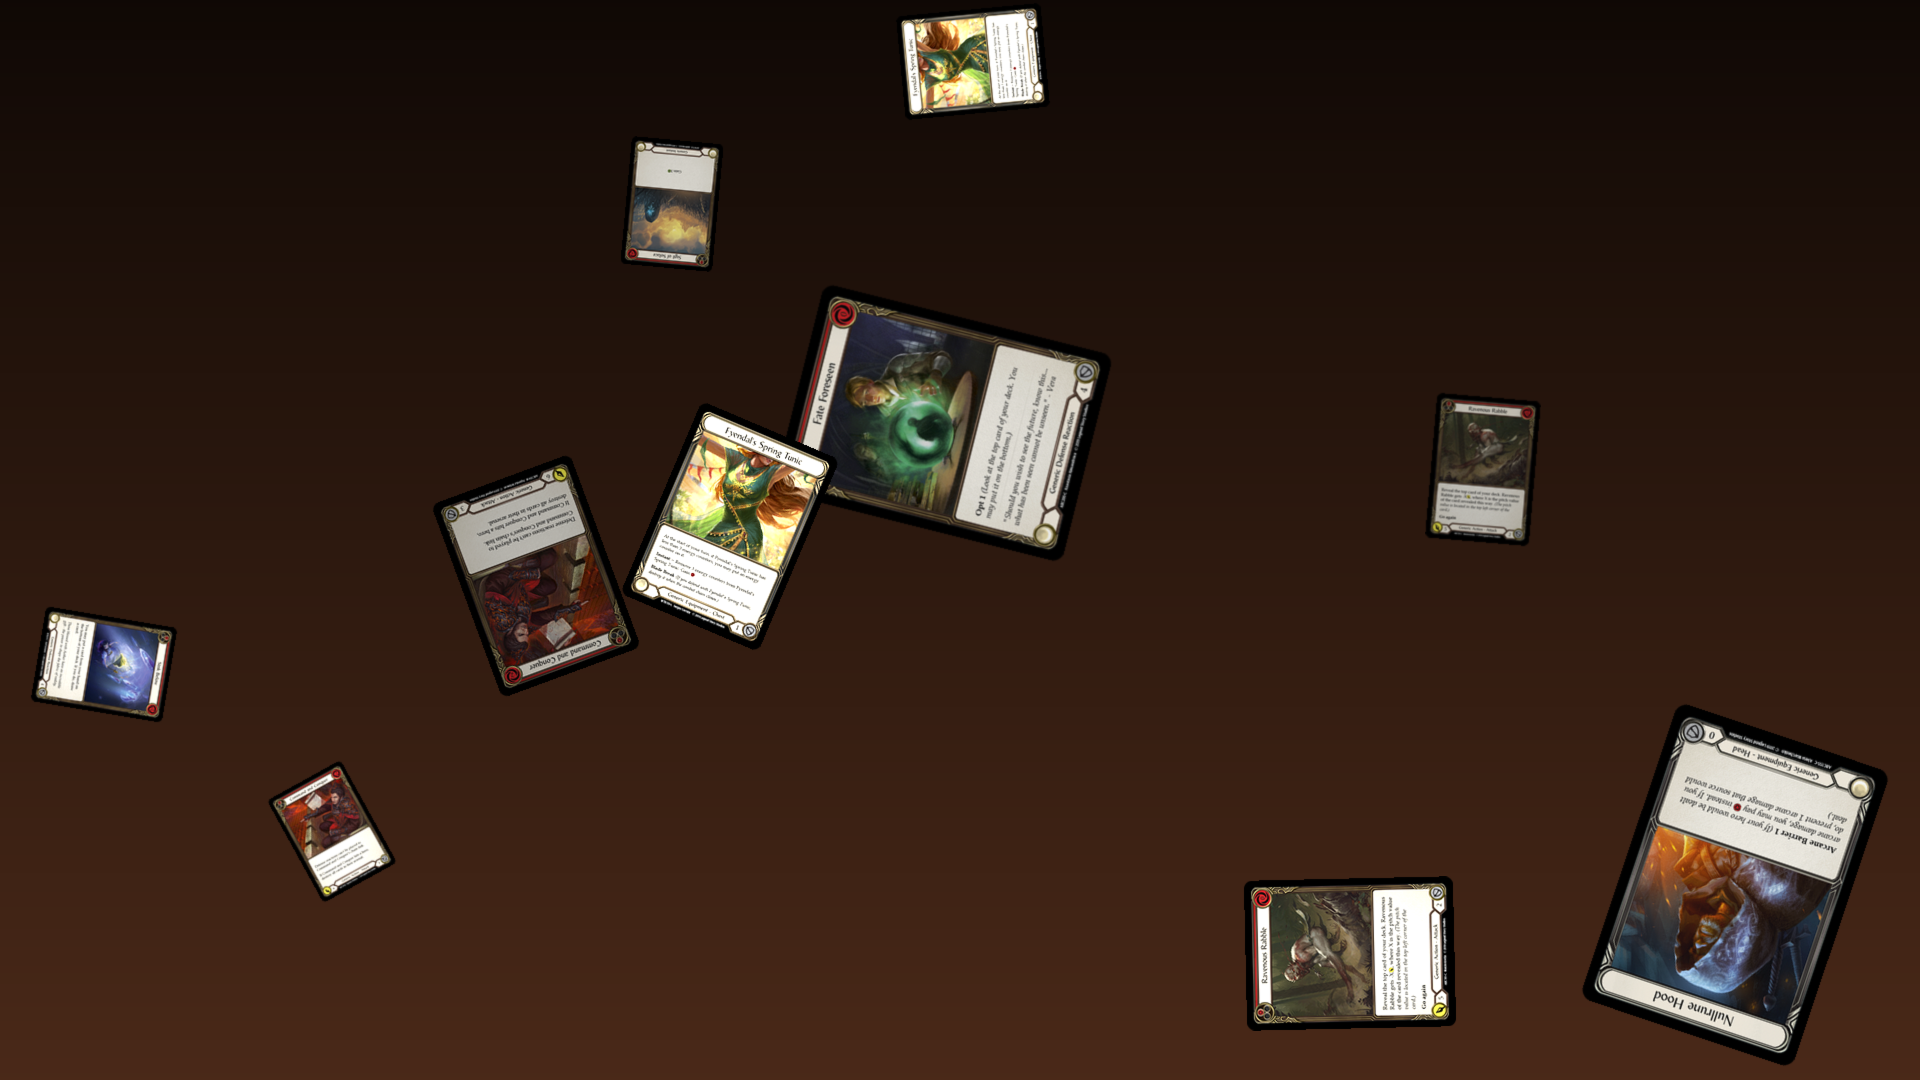Command_and_Conquer_ARC159: (430, 454, 642, 699), (266, 760, 398, 905)
Fate_Foreseen_ARC200: (771, 284, 1114, 563)
Fyendals_Spring_Tunic_WTR150: (620, 401, 840, 651), (895, 3, 1051, 121)
Nullrune_Hood_ARC155: (1578, 702, 1891, 1069)
Ravenous_Rabble_ARC191: (1244, 876, 1457, 1031), (1425, 392, 1542, 547)
Sigil_of_Solace_WTR173: (620, 136, 724, 272)
Sink_Below_WTR215: (30, 607, 178, 723)
